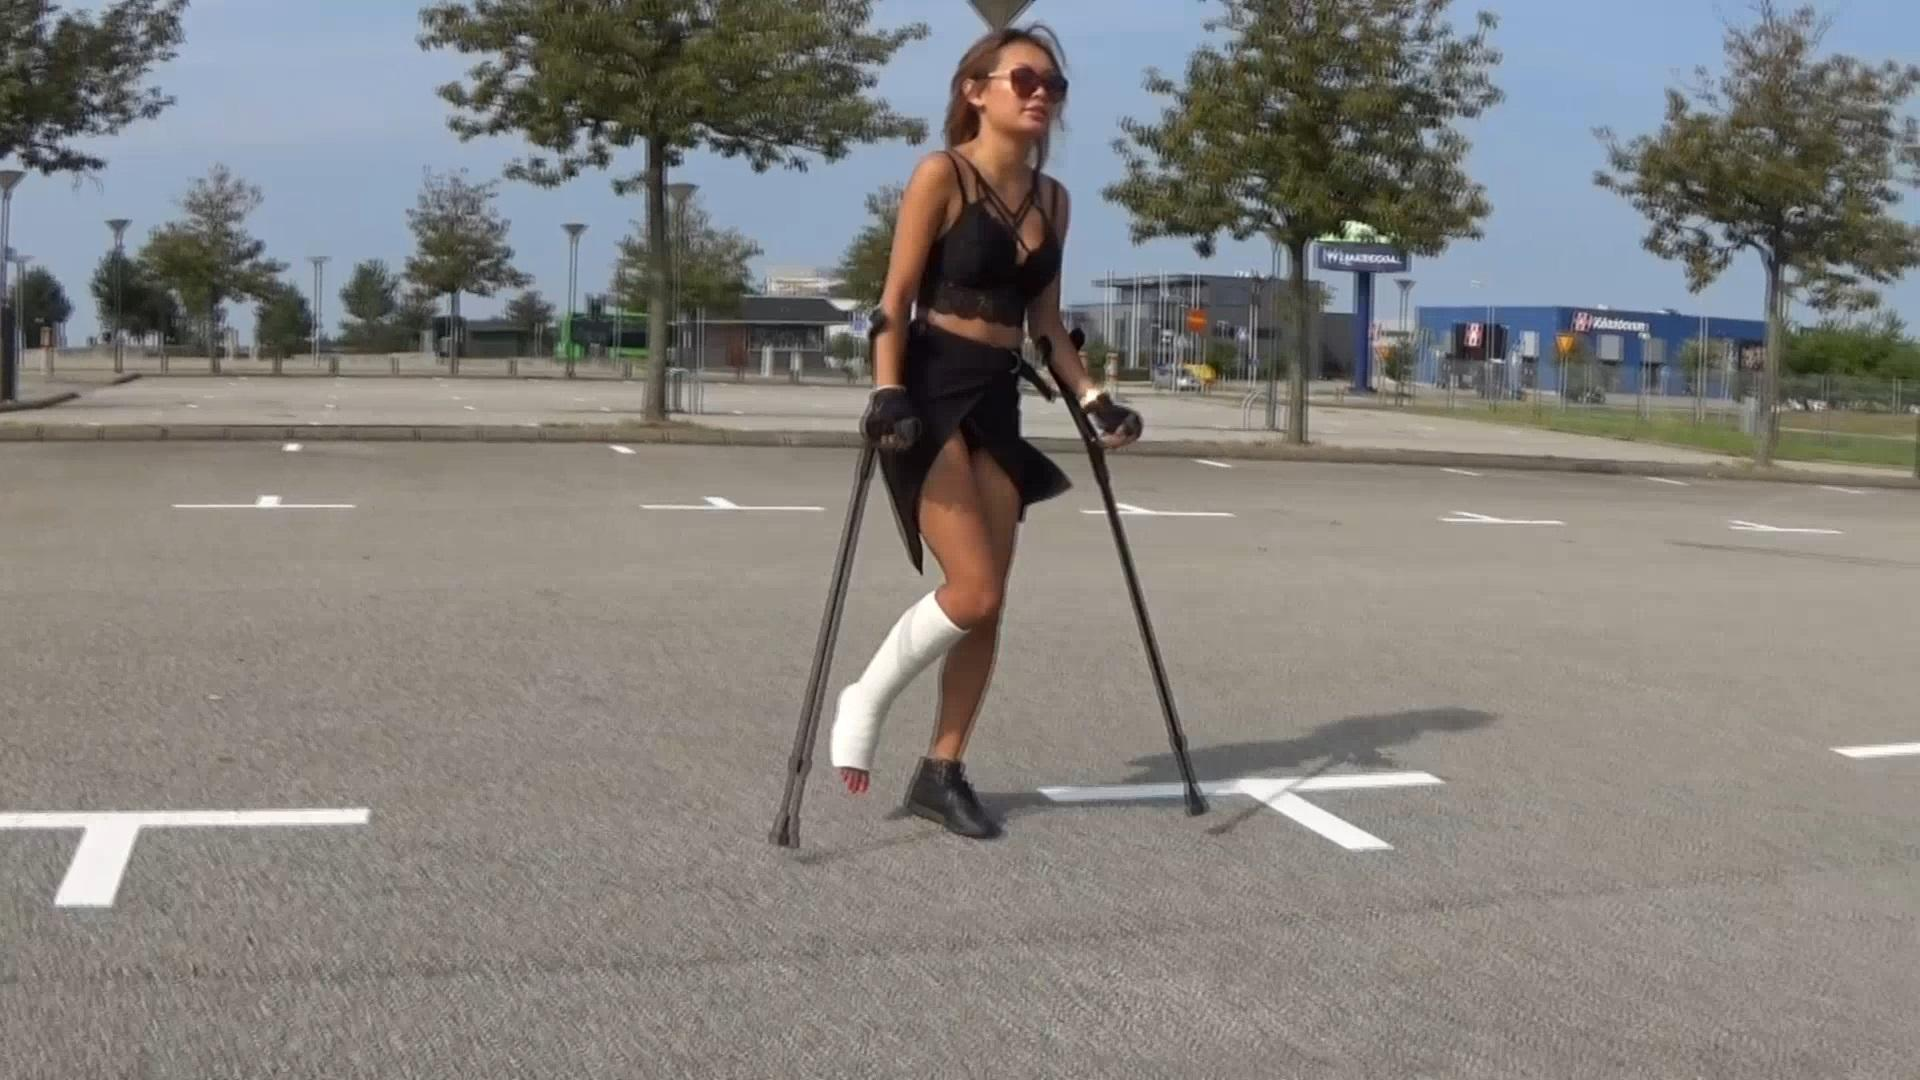crutches: (770, 28, 1211, 853)
